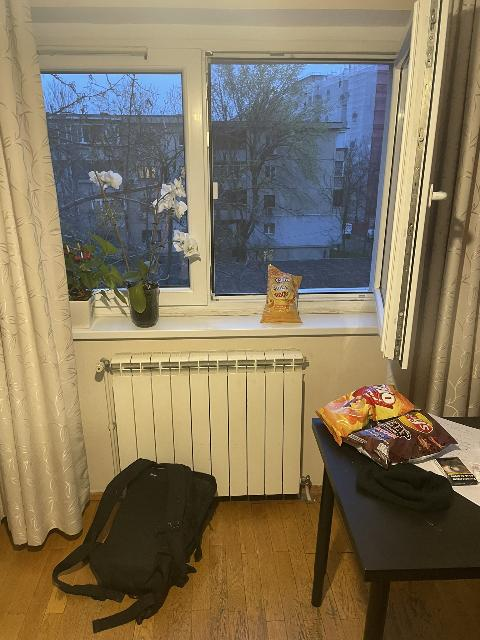Chio Cascaval 125g: (316, 385, 412, 446)
Chio Hula Hoops Cheese 70g: (262, 265, 305, 325)
Lays Beef Grilled Ribs 125g: (351, 412, 454, 467)
